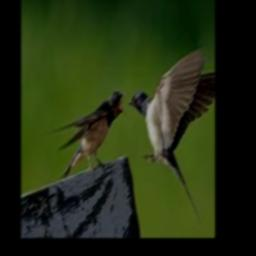Swallow: (129, 47, 215, 226), (48, 90, 126, 179)
